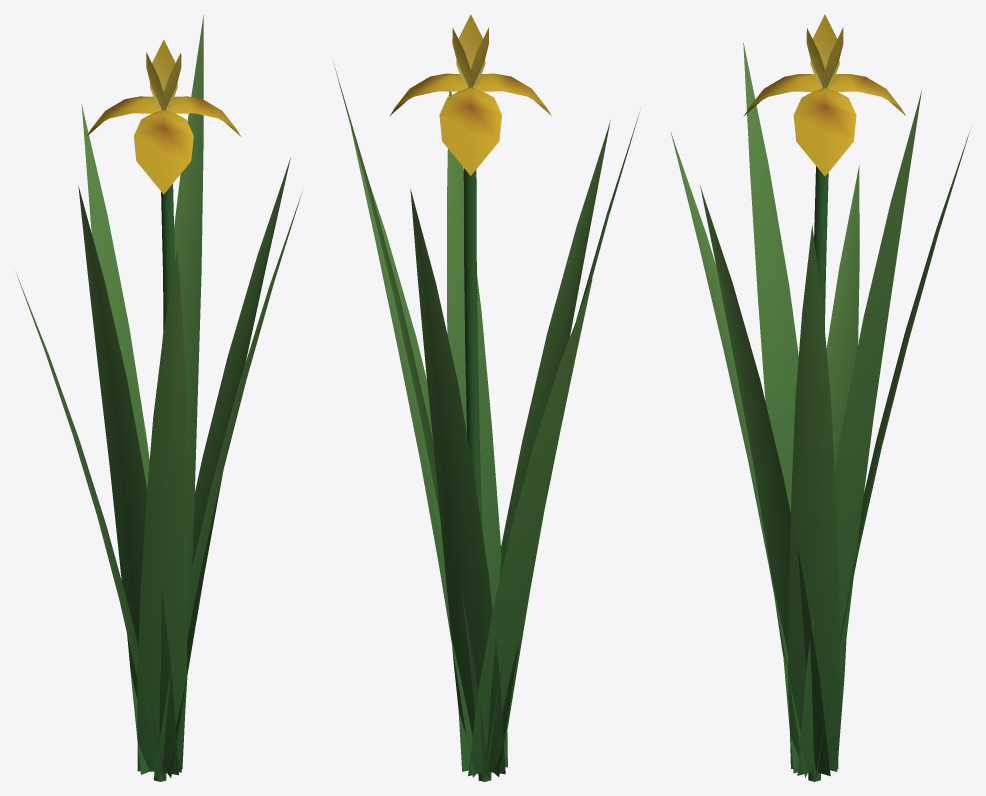
The model's file is Iris_Yellow.fbx.
3 views of the same model, side by side, from view 1: azimuth 30°, elevation 25°; view 2: azimuth 150°, elevation 25°; view 3: azimuth 270°, elevation 25° (orthographic). The views are drawn at different scales.
Parts seen in each view (by area): view 1: Iris_Yellow; view 2: Iris_Yellow; view 3: Iris_Yellow.
Boxes of the visible parts, x1,y1,x2,y2 form: Iris_Yellow: (16,15,302,781); Iris_Yellow: (333,14,639,781); Iris_Yellow: (670,14,970,781).
Bounding box in the file's own units: 2.94 × 8 × 2.88.
